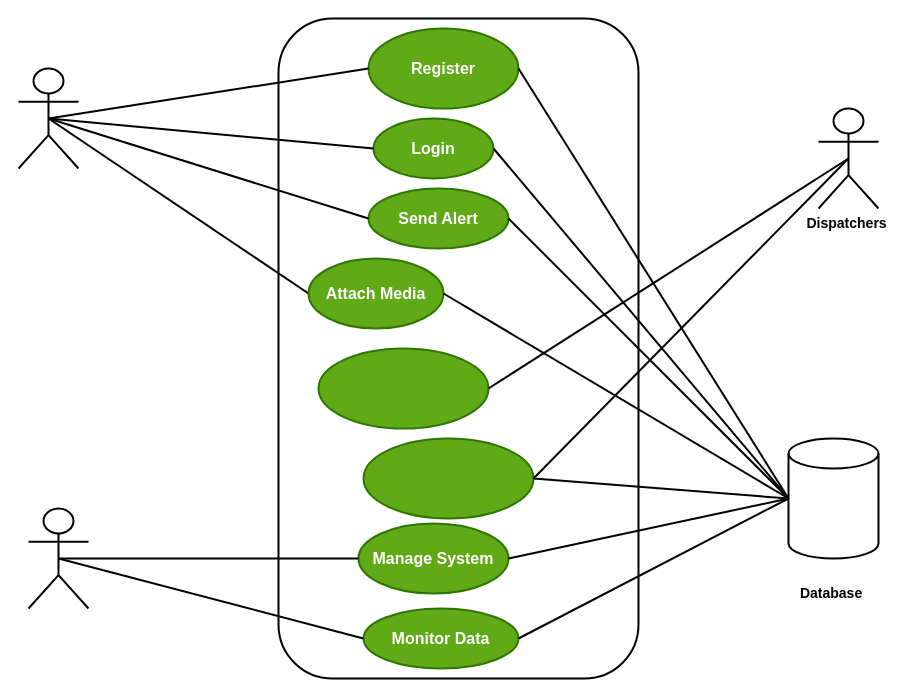
Image size: 907x696. Some labels were removed from this diagram. The shapes that lost their labels are listed below. From the top down, each one's box as (x1, y1, x2, y2) in pixels, then its label:
(17, 67, 79, 169): User
(317, 347, 489, 429): Dispatch help
(362, 437, 534, 519): Analyze Incident
(27, 507, 89, 609): Admin
